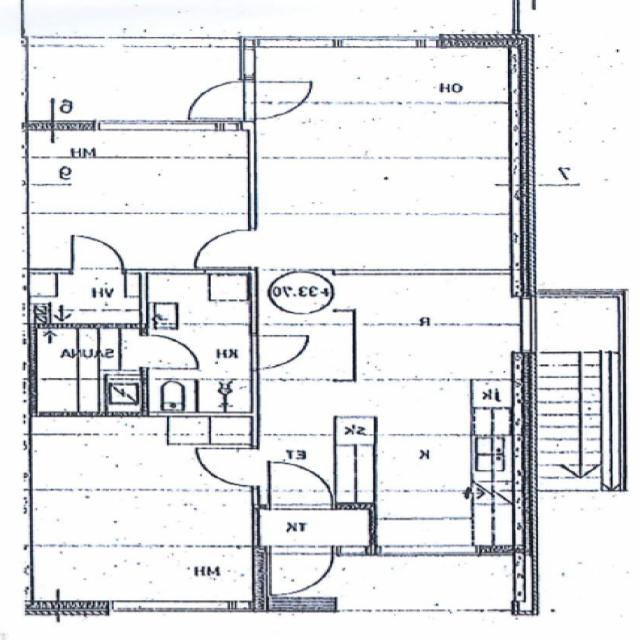door: (270, 546, 334, 597), (269, 461, 333, 509), (245, 81, 314, 118), (190, 81, 259, 118), (197, 449, 259, 485), (197, 230, 259, 266), (252, 336, 308, 369), (141, 335, 196, 368), (74, 237, 122, 274)
